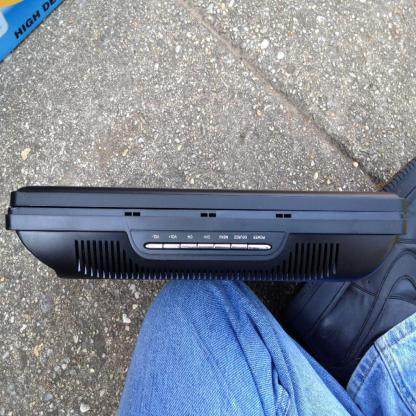board: (20, 176, 392, 280)
